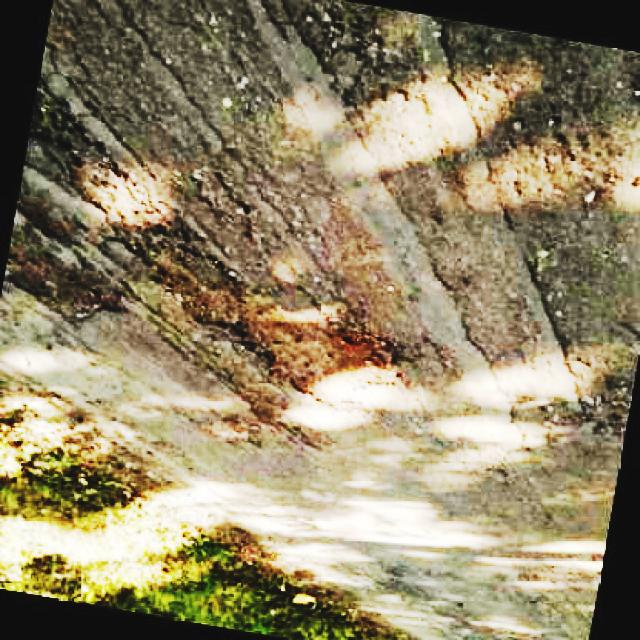pothole: (137, 237, 425, 421), (43, 118, 183, 237), (0, 229, 128, 326), (570, 348, 638, 435)
